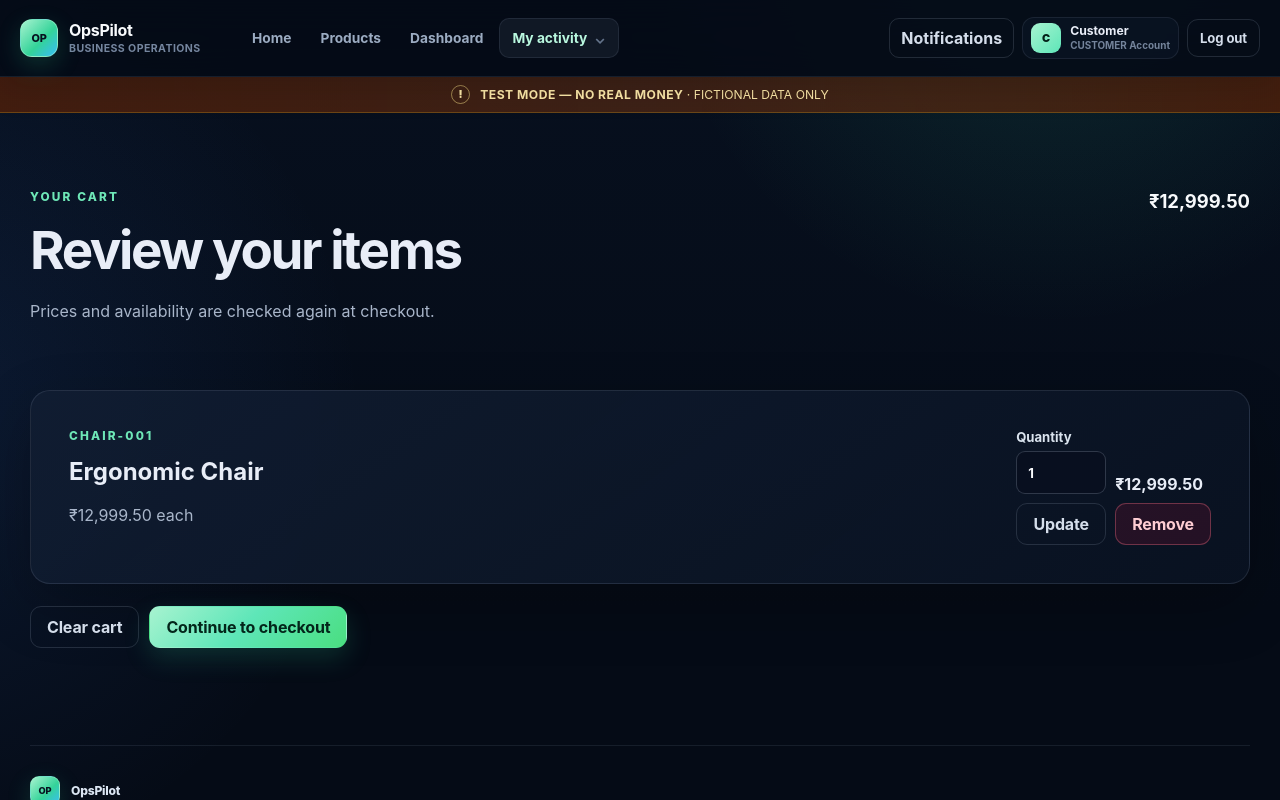
Test: OpsPilot web authentication › removes one cart item
The image size is (1280, 800).
expect the heading "Ergonomic Chair" is shown: met, box [69,458,263,486]
Click the button "Remove" at {"x": 1163, "y": 524}, box [1115,503,1211,545]
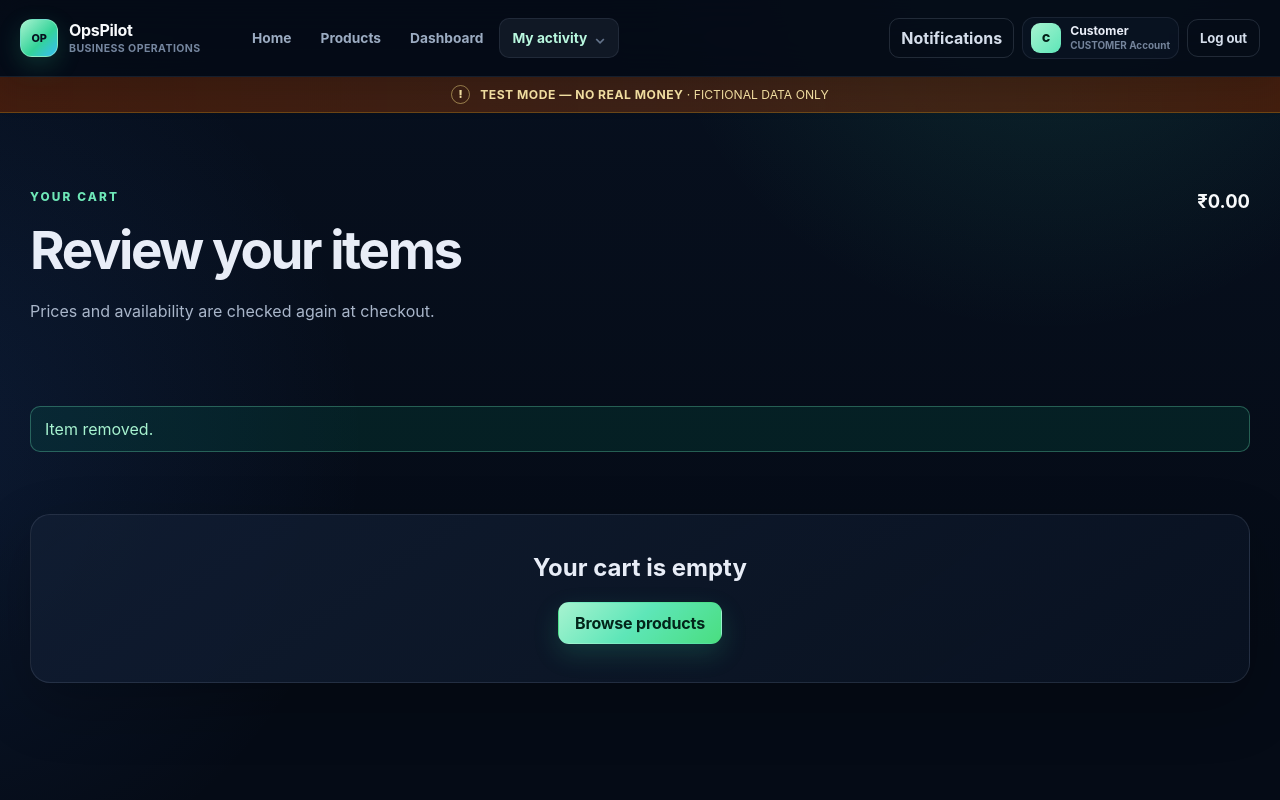
expect the text "Item removed." is shown: met, box [30,406,1250,452]
